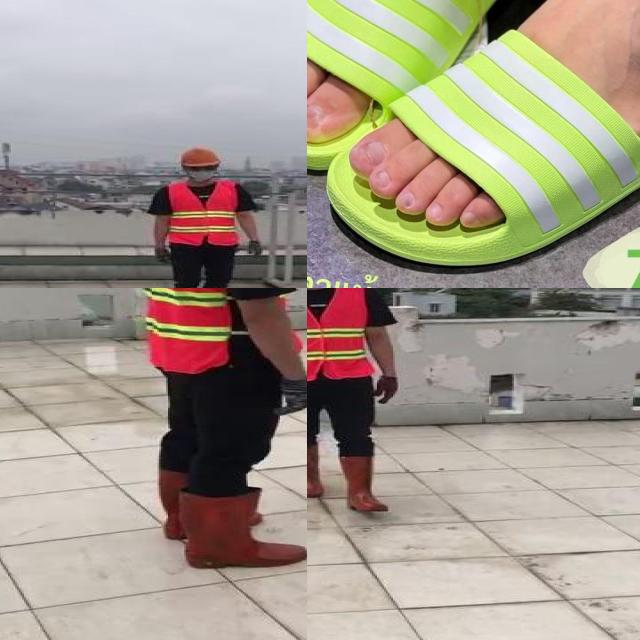Sandals: (307, 0, 640, 276)
boots: (143, 461, 275, 540), (178, 487, 307, 567), (336, 455, 384, 511), (307, 446, 323, 496)
face_mask: (187, 164, 217, 182)
glasses: (185, 164, 219, 172)
hand_glove: (274, 378, 307, 417), (375, 377, 397, 403), (244, 241, 266, 259), (151, 247, 169, 266)
head_helmet: (178, 147, 220, 167)
person: (121, 288, 307, 576), (307, 288, 408, 517), (146, 147, 262, 288)
vest: (132, 288, 301, 373), (307, 288, 379, 381), (167, 181, 240, 248)
